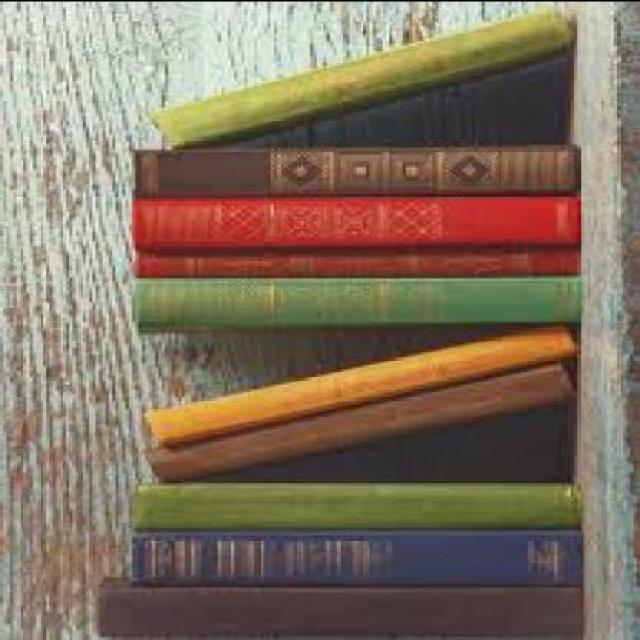PAPER: (148, 13, 578, 145), (142, 322, 581, 442), (145, 363, 581, 480), (96, 570, 581, 638), (125, 526, 584, 582), (128, 274, 581, 329), (128, 195, 578, 248), (128, 477, 578, 526), (128, 146, 572, 192), (128, 247, 578, 275)
